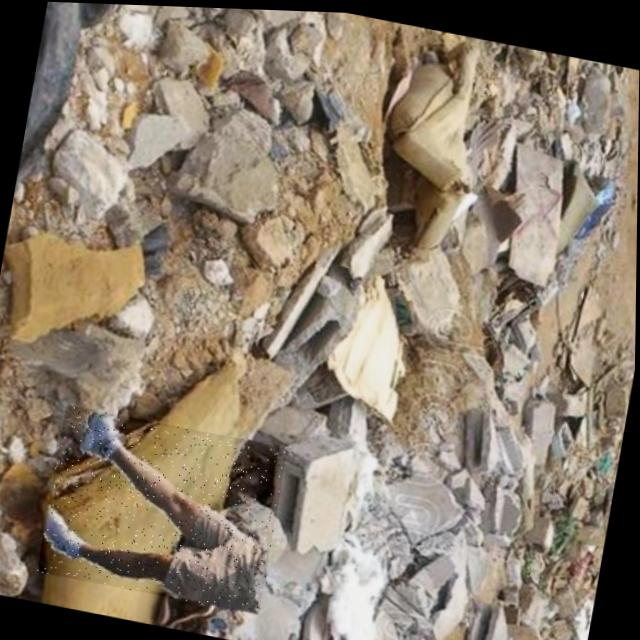Person in Rubble: (37, 403, 289, 614)
